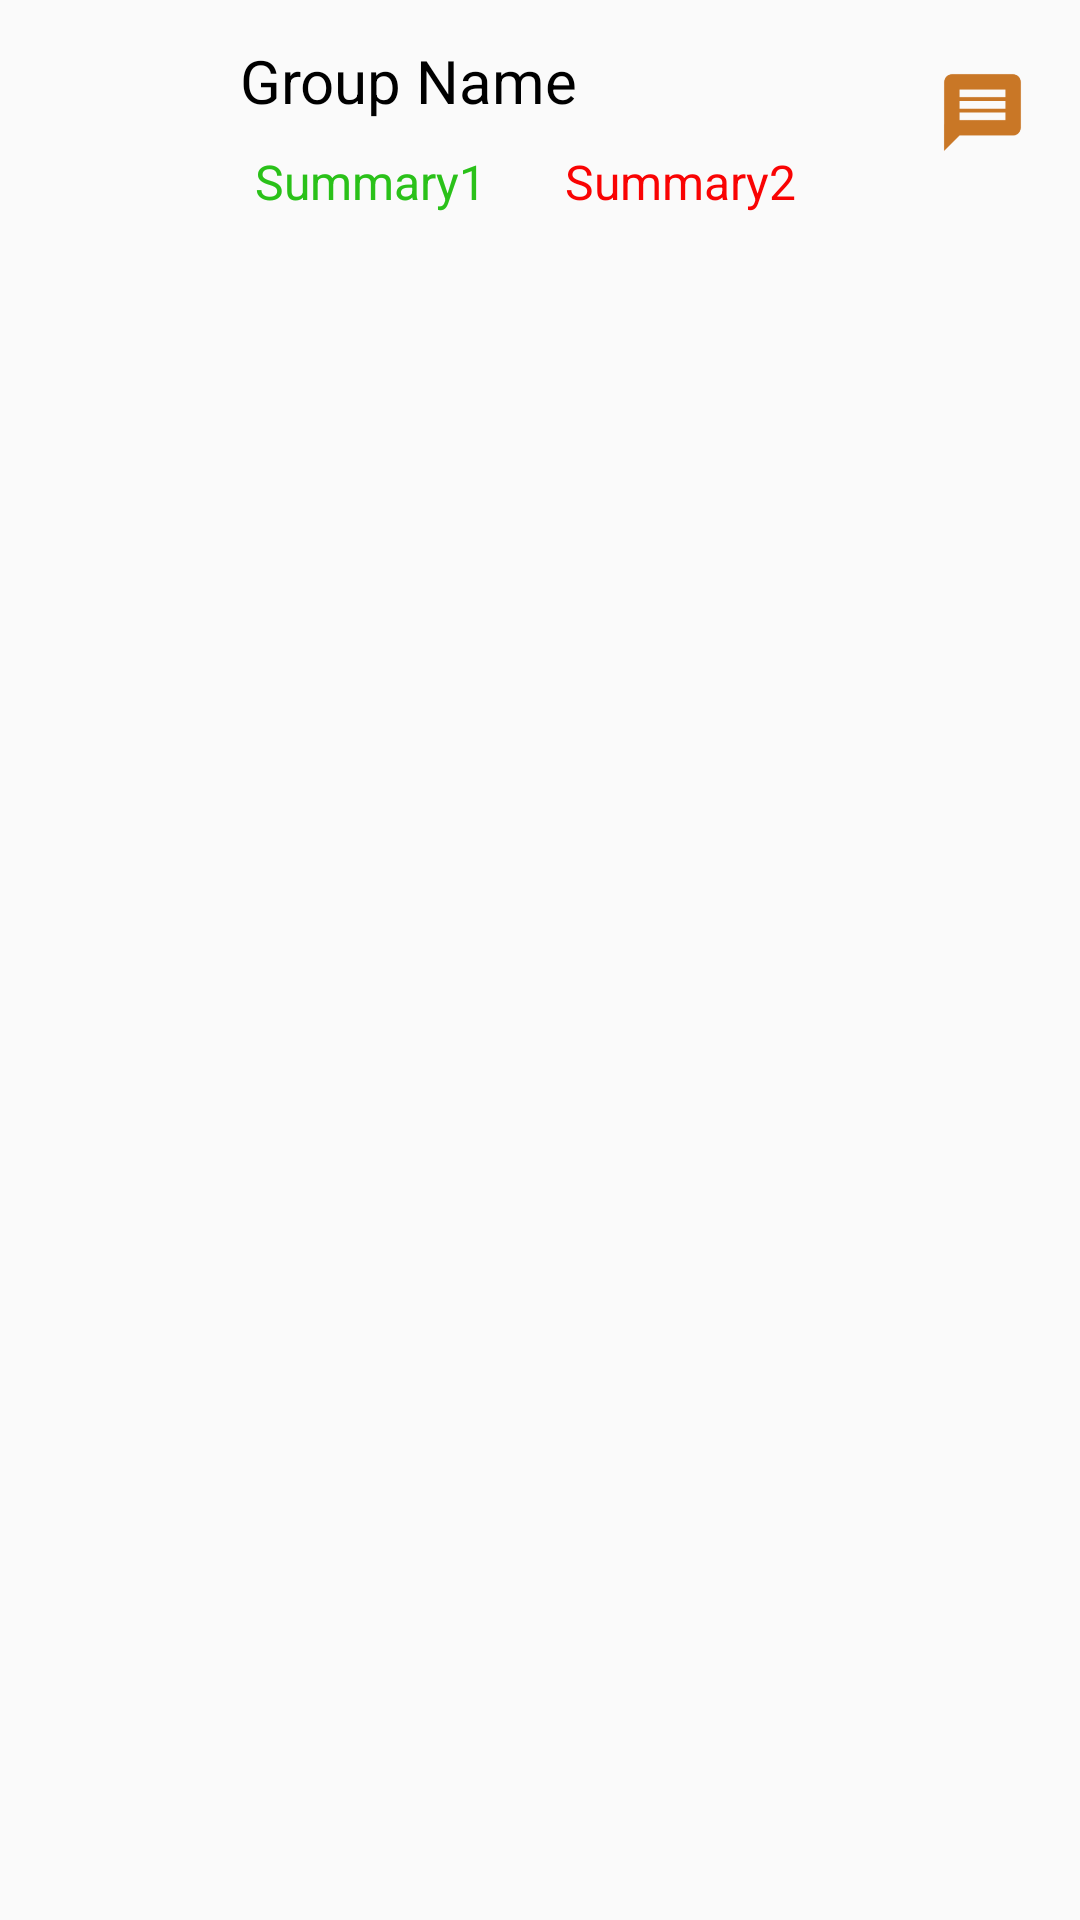

Screen size 1080px×1920px. Icon name, then its box in pixels as box(x1, y1, x2, y2):
notification: box(944, 74, 1021, 151)
